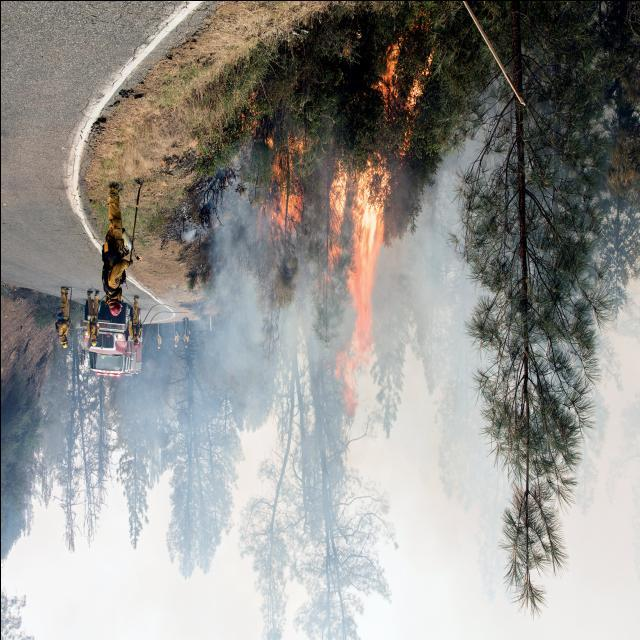Fire: (253, 46, 432, 414)
